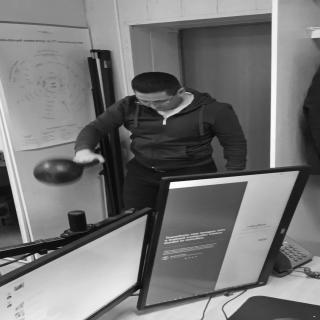kettlebell: (35, 158, 103, 188)
